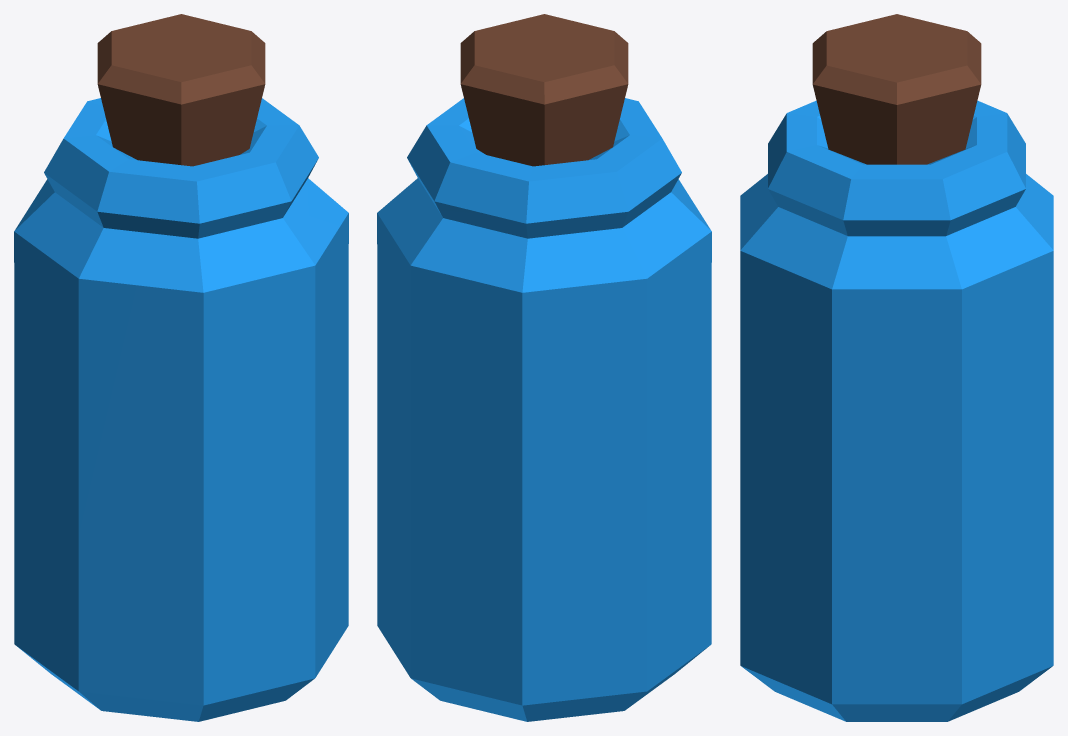
Rendered from Potion_01.fbx.
3 views of the same model, side by side, from view 1: azimuth 30°, elevation 25°; view 2: azimuth 150°, elevation 25°; view 3: azimuth 270°, elevation 25° (orthographic).
Visible parts, largest first — view 1: potion_01; view 2: potion_01; view 3: potion_01.
Boxes of the visible parts, left/top/right/bottom form: potion_01: left=14, top=14, right=348, bottom=721; potion_01: left=377, top=14, right=711, bottom=721; potion_01: left=740, top=14, right=1053, bottom=721.
Size of the model in its own units: 122 by 269 by 122.
Materials: 3 (1 with a texture image).
